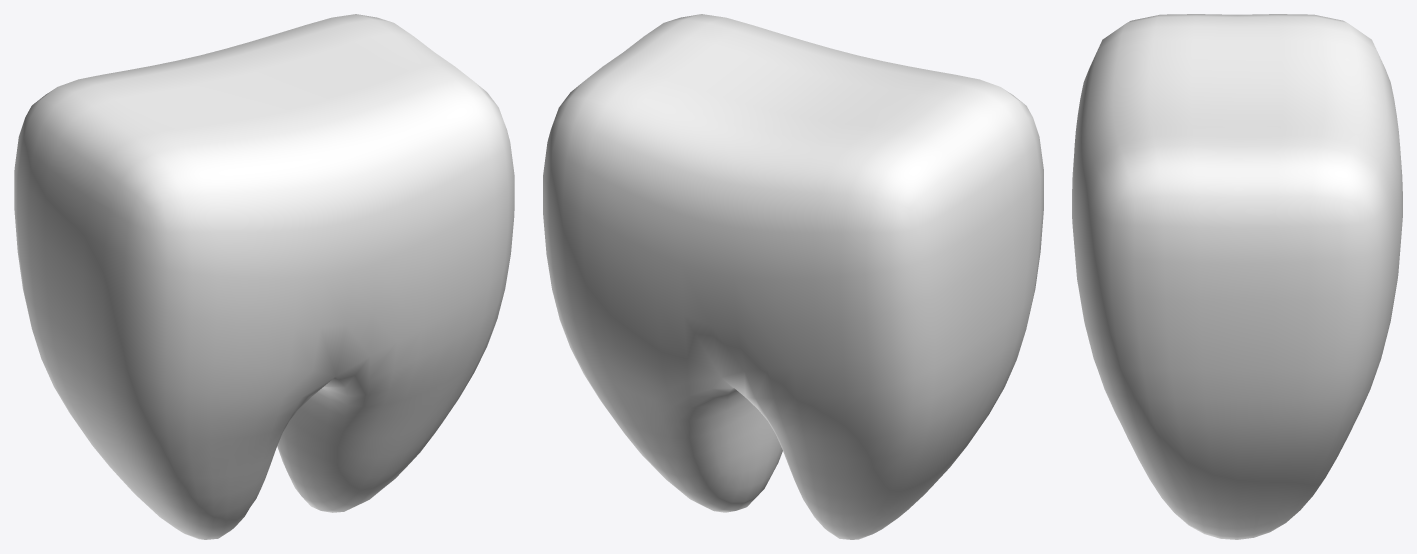
File: tooth.glb
3 views of the same model, side by side, from view 1: azimuth 30°, elevation 25°; view 2: azimuth 150°, elevation 25°; view 3: azimuth 270°, elevation 25° (orthographic). The views are drawn at different scales.
Visible parts, largest first — view 1: Cube.106; view 2: Cube.106; view 3: Cube.106.
Part boxes in pixels (box(x1,y1,x2,y2)): Cube.106: box(14, 14, 514, 539); Cube.106: box(543, 14, 1043, 539); Cube.106: box(1072, 14, 1402, 539).
Bounding box in the file's own units: 2.13 × 2.21 × 1.57.
Materials: 1 (1 with a texture image).
